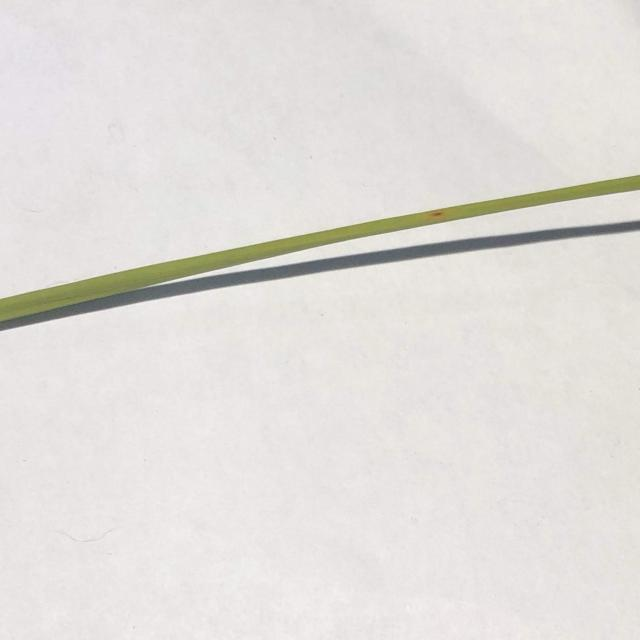brownspots: (427, 203, 453, 224)
